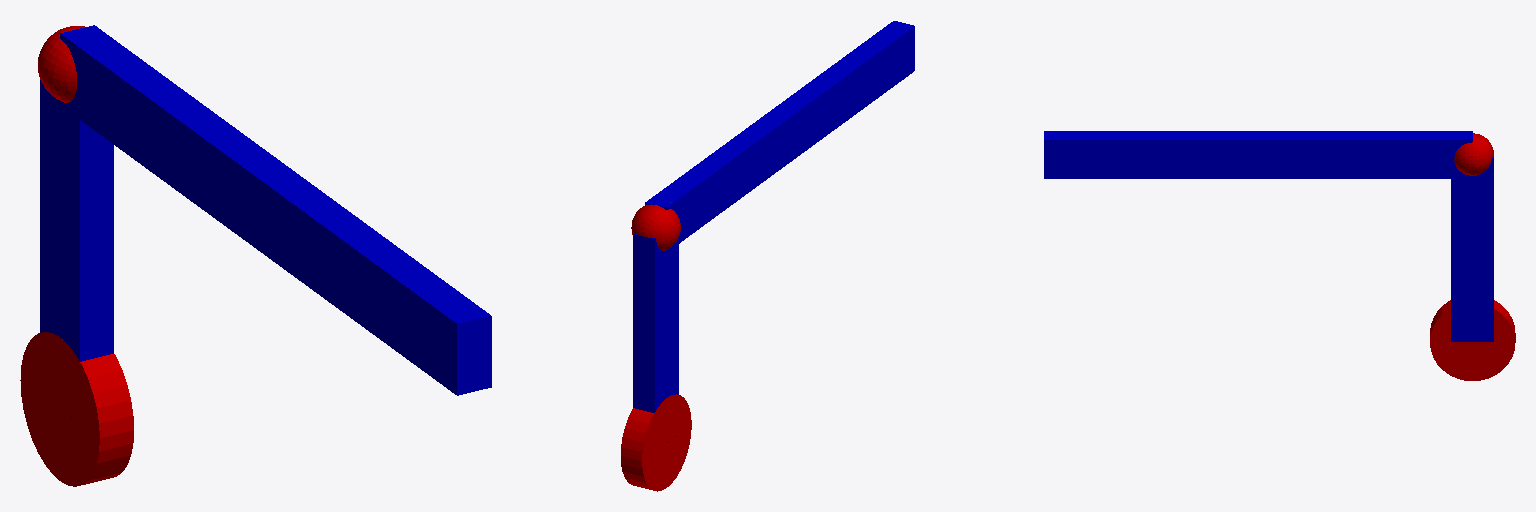
robot.urdf — TwoLinkStruct1461810131:
<?xml version="1.0"?>
<robot  name="TwoLinkStruct1461810131" >
 <material  name="blue" >
  <color  rgba="0 0 0.8 1.0" />
 </material>
 <material  name="red" >
  <color  rgba="0.8 0 0 1.0" />
 </material>
 <link  name="base_link" >
  <visual >
   <origin  rpy="0 1.5707 0"  xyz="0 0 0" />
   <material  name="red" />
   <geometry >
    <cylinder  length="0.05"  radius="0.1" />
   </geometry>
  </visual>
 </link>
 <joint  type="revolute"  name="joint1" >
  <parent  link="base_link" />
  <child  link="link1" />
  <origin  xyz="0 0 0"  rpy="0 0 0" />
  <axis  xyz="1 0 0" />
 </joint>
 <link  name="link1" >
  <inertial >
   <origin  rpy="0 0 0"  xyz="0 0 0.23619231399898452" />
   <mass  value="1.2591428801685787" />
   <inertia  ixy="0.0"  iyy="0.0005246428667369079"  izz="0.023676842633926862"  ixz="0.0"  ixx="0.023676842633926862"  iyz="0.0" />
  </inertial>
  <visual >
   <origin  rpy="0 0 0"  xyz="0 0 0.23619231399898452" />
   <material  name="blue" />
   <geometry >
    <box  size="0.05 0.1 0.47238462799796904" />
   </geometry>
  </visual>
 </link>
 <joint  type="fixed"  name="joint-joint-1" >
  <parent  link="link1" />
  <child  link="joint-link-1" />
  <origin  xyz="0 0 0.47238462799796904"  rpy="1.5707 0 0" />
  <axis  xyz="1 0 0" />
 </joint>
 <link  name="joint-link-1" >
  <inertial >
   <origin  rpy="0 0 0"  xyz="0 0 0" />
   <mass  value="0.02041654844585364" />
   <inertia  ixy="0"  iyy="0"  izz="0"  ixz="0"  ixx="0"  iyz="0" />
  </inertial>
  <visual >
   <origin  rpy="0 0 0"  xyz="0 0 0" />
   <material  name="red" />
   <geometry >
    <sphere  radius="0.05" />
   </geometry>
  </visual>
 </link>
 <joint  type="revolute"  name="joint2" >
  <parent  link="link1" />
  <child  link="link2" />
  <origin  xyz="0 0 0.47238462799796904"  rpy="1.5707 0 0" />
  <axis  xyz="1 0 0" />
 </joint>
 <link  name="link2" >
  <inertial >
   <origin  rpy="0 0 0"  xyz="0 0 0.5" />
   <mass  value="3.936964750289917" />
   <inertia  ixy="0.0"  iyy="0.0005246428667369079"  izz="0.10519089478075"  ixz="0.0"  ixx="0.10519089478075"  iyz="0.0" />
  </inertial>
  <visual >
   <origin  rpy="0 0 0"  xyz="0 0 0.5" />
   <material  name="blue" />
   <geometry >
    <box  size="0.05 0.1 1.0" />
   </geometry>
  </visual>
 </link>
 <joint  type="fixed"  name="eef_joint" >
  <parent  link="link2" />
  <child  link="eef" />
  <origin  xyz="0 0 1.0"  rpy="0 0 0" />
 </joint>
 <link  name="eef" >
  <inertial >
   <origin  rpy="0 0 0"  xyz="0 0 0" />
   <mass  value="1" />
   <inertia  ixy="0"  iyy="0"  izz="0"  ixz="0"  ixx="0"  iyz="0" />
  </inertial>
 </link>
 <transmission  name="motor1" >
  <type  xmltext="SimpleTransmission" >
   SimpleTransmission
  </type>
  <actuator  name="motor1" >
   <mechanicalreduction  xmltext="1" >
    1
   </mechanicalreduction>
  </actuator>
  <joint  name="joint1" />
 </transmission>
 <transmission  name="motor2" >
  <type  xmltext="SimpleTransmission" >
   SimpleTransmission
  </type>
  <actuator  name="motor2" >
   <mechanicalreduction  xmltext="1" >
    1
   </mechanicalreduction>
  </actuator>
  <joint  name="joint2" />
 </transmission>
</robot>

<!-- {'carti': array([-0.1 ,  0.14,  0.85]), 'cartd': array([-0.1 ,  0.32,  1.29]), 'tau_mu': 0.15558514247175917, 'b0': 0.19333683353605727, 'Km': 3.371119115598512, 'k_velocity': 75.46198762400036, 'tau_max_m': 5.0, 'omega_max_m': 1000.0, 'gear_ratio': 8.93480021801767, 'Kp': 0.0, 'Kd': 89.60254554258377, 'm_m': 0.02041654844585364, 'l1': 0.47238462799796904, 'l2': 1.0, 'k1': 28133.958664942103, 'k2': 179896410.0551725, 'k3': 379000000.0}-->

--- What the picture shows (computed from the rendered views, not written in the file) ---
The picture shows the robot from 3 angles, left to right: view 1: azimuth 30°, elevation 25°; view 2: azimuth 150°, elevation 25°; view 3: azimuth 270°, elevation 25°; orthographic projection.
Robot: TwoLinkStruct1461810131 — 5 links, 4 joints (2 revolute, 2 fixed); root link base_link; default pose: every joint at zero.
Visible links, largest first — view 1: link2, link1, base_link, joint-link-1; view 2: link2, link1, base_link, joint-link-1; view 3: link2, link1, base_link, joint-link-1.
Boxes of the visible links, x1,y1,x2,y2 form: link2: (60,25,491,395); link1: (40,80,113,417); base_link: (20,332,133,486); joint-link-1: (38,26,84,102); link2: (645,21,914,247); link1: (633,233,678,442); base_link: (621,394,691,491); joint-link-1: (631,204,680,250); link2: (1044,131,1472,178); link1: (1451,157,1493,341); base_link: (1430,300,1515,380); joint-link-1: (1454,133,1493,175).
Bounding box of the posed robot: 0.1 × 1.1 × 0.6225 m (x, y, z).
Geometry: primitives only (box / cylinder / sphere), no mesh files.